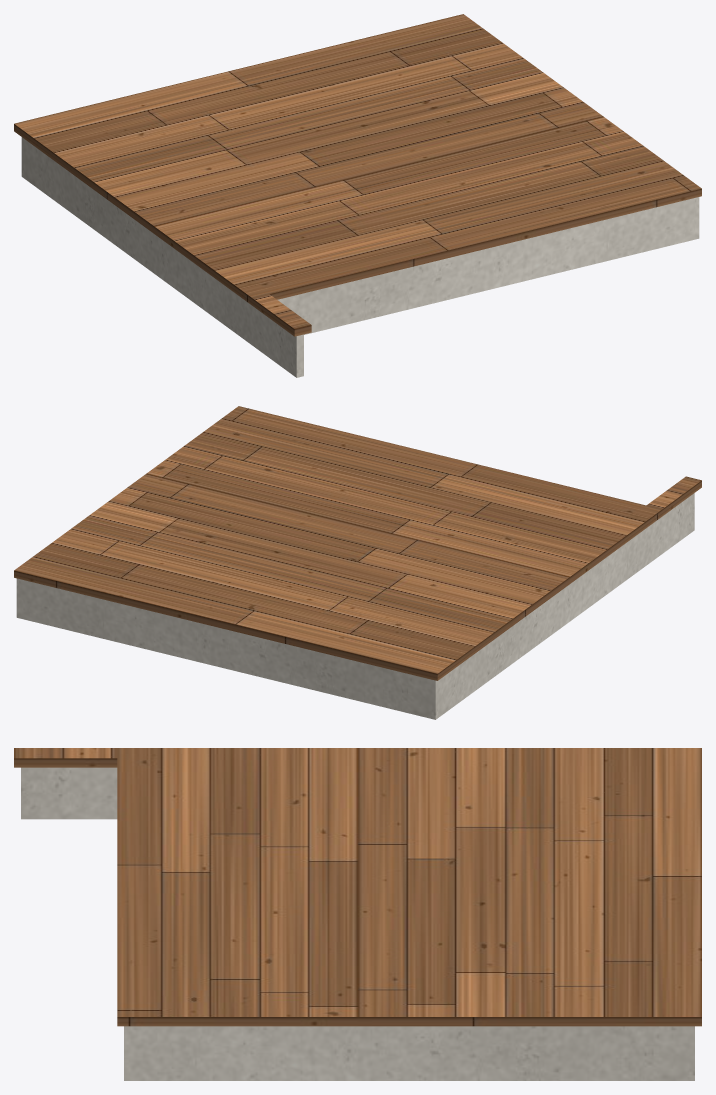
Rendered from floor_wood_u_e0_15_0_0.glb.
The picture shows the model from 3 angles, top to bottom: view 1: azimuth 30°, elevation 25°; view 2: azimuth 150°, elevation 25°; view 3: azimuth 270°, elevation 25°; orthographic projection. The views are drawn at different scales.
Visible parts, largest first — view 1: floor_wood_u_e0_15_0_0_floor, floor_wood_u_e0_15_0_0_plaster; view 2: floor_wood_u_e0_15_0_0_floor, floor_wood_u_e0_15_0_0_plaster; view 3: floor_wood_u_e0_15_0_0_floor, floor_wood_u_e0_15_0_0_plaster.
Boxes of the visible parts, <box> form: floor_wood_u_e0_15_0_0_floor: <box>14,14,701,336</box>; floor_wood_u_e0_15_0_0_plaster: <box>21,137,699,377</box>; floor_wood_u_e0_15_0_0_floor: <box>14,406,701,680</box>; floor_wood_u_e0_15_0_0_plaster: <box>16,493,694,719</box>; floor_wood_u_e0_15_0_0_floor: <box>14,748,701,1026</box>; floor_wood_u_e0_15_0_0_plaster: <box>21,767,694,1080</box>.
Size of the model in its own units: 1.85 by 0.205 by 2.
2 materials, 2 textured.
